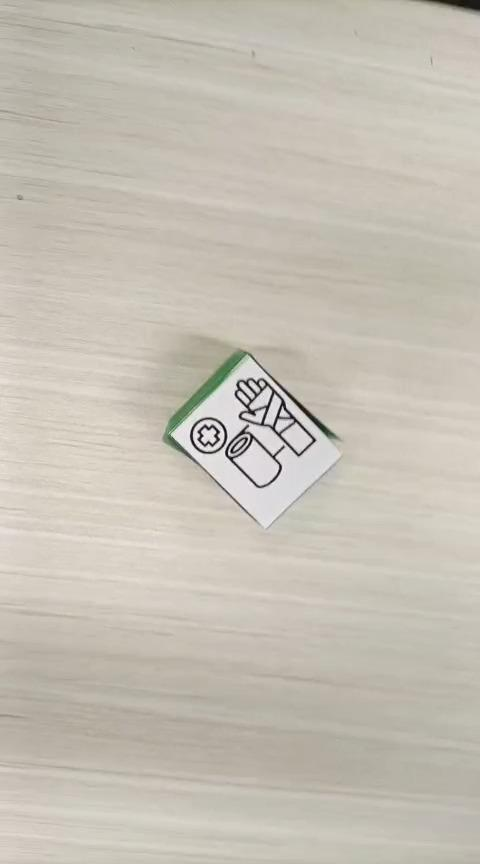Bandages: (162, 347, 342, 530)
